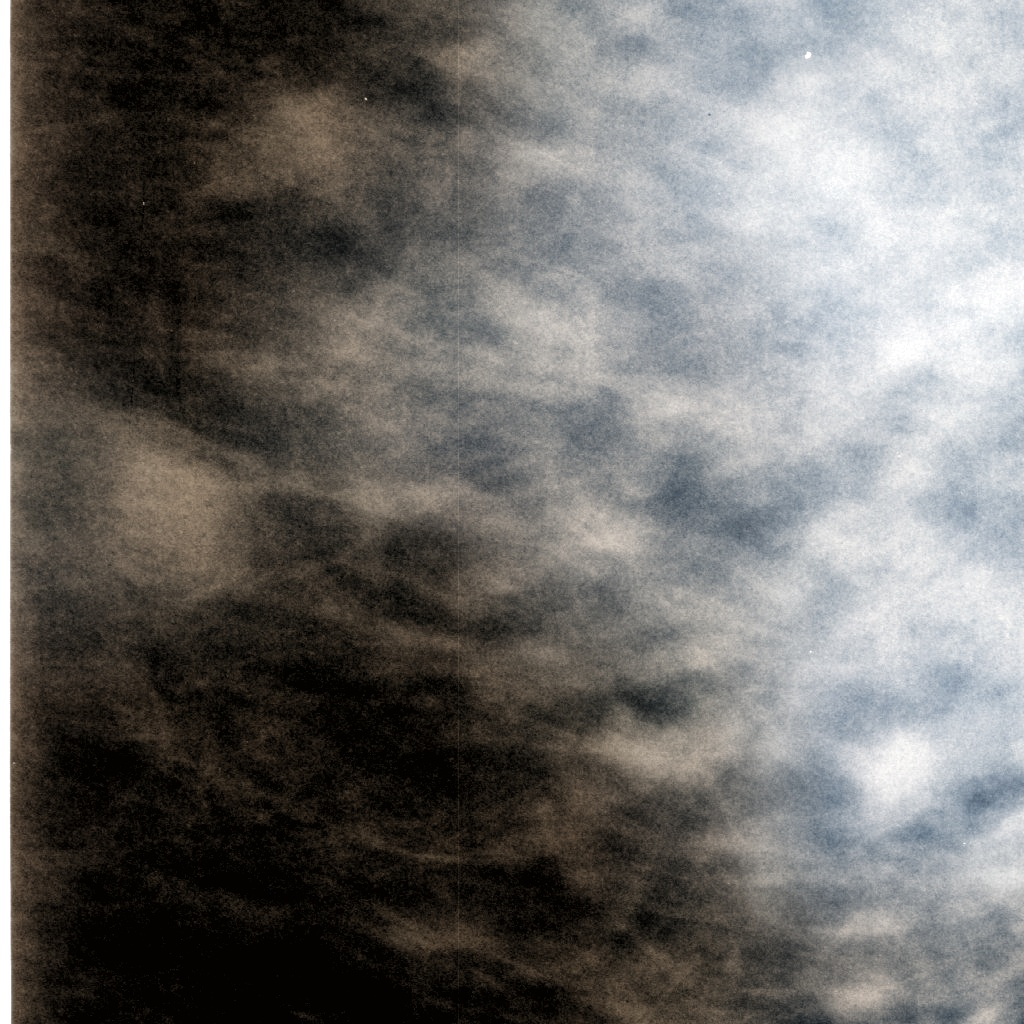tumor: (83, 400, 295, 624)
